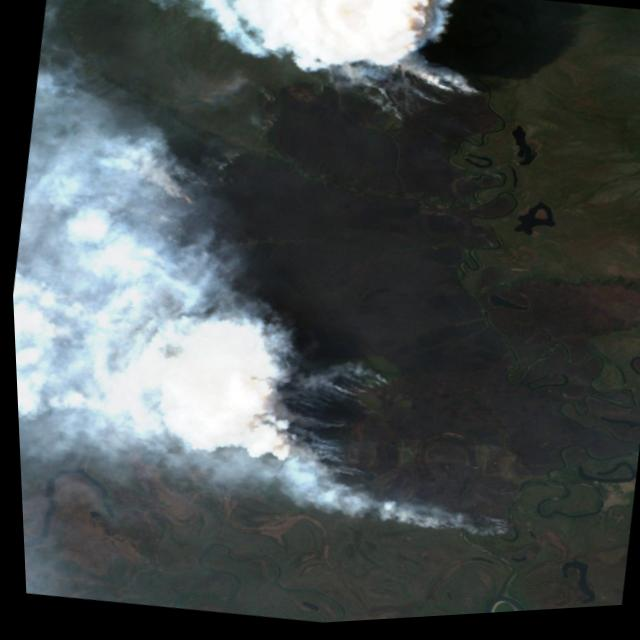fire: (17, 0, 595, 576)
